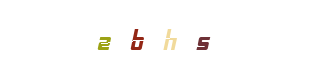B: (120, 0, 200, 80)
H: (123, 0, 203, 80)
S: (128, 0, 208, 80)
Z: (69, 0, 149, 80)
